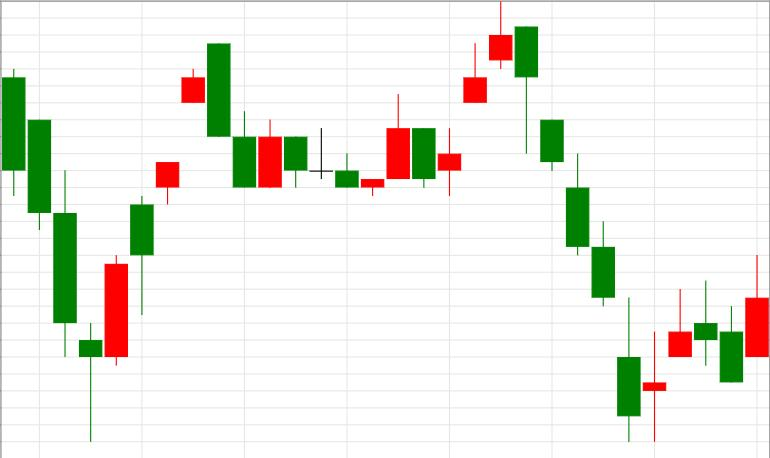bearish_engulfing_fall: (105, 44, 231, 366)
shooting_star_fall: (361, 1, 513, 197)
